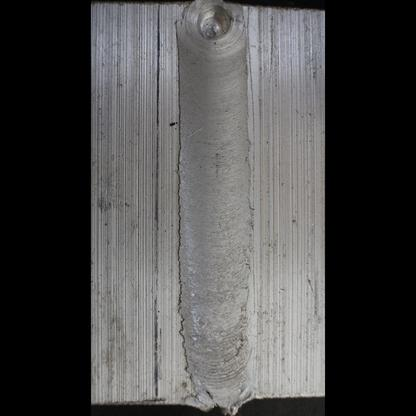cross-section reduction defect: (176, 249, 261, 399)
galling: (184, 335, 256, 401)
keyhole: (166, 3, 255, 45)
void: (232, 332, 247, 358)
